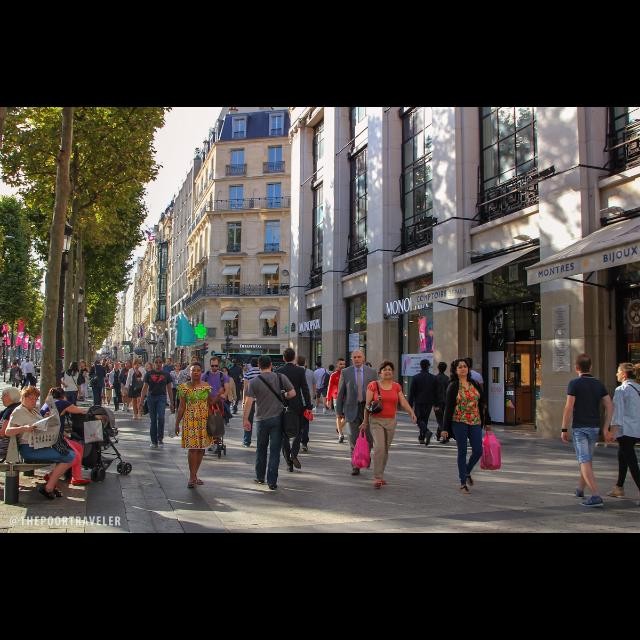head: (1, 387, 21, 408), (22, 386, 40, 409), (616, 363, 636, 382), (574, 353, 592, 373), (454, 360, 470, 378), (258, 355, 274, 373), (52, 388, 68, 404), (352, 350, 366, 368), (380, 364, 394, 381), (190, 363, 202, 381), (282, 350, 296, 364), (210, 357, 220, 373), (462, 358, 473, 370), (154, 356, 164, 369), (421, 360, 431, 372), (337, 359, 347, 371), (297, 356, 307, 368), (437, 362, 447, 373), (251, 358, 261, 369), (222, 368, 230, 378), (70, 362, 78, 372), (100, 417, 108, 427), (144, 362, 154, 370), (174, 363, 182, 371), (165, 358, 172, 366), (135, 359, 141, 368), (192, 357, 198, 365), (232, 359, 238, 366), (329, 366, 335, 372), (316, 362, 322, 368), (242, 365, 248, 371), (126, 362, 132, 368), (114, 363, 120, 369), (95, 360, 101, 366), (80, 362, 86, 368), (102, 359, 106, 366), (108, 374, 112, 380), (26, 358, 30, 364), (13, 362, 17, 368), (228, 359, 232, 363), (26, 358, 30, 362), (184, 362, 188, 366)
person: (350, 360, 418, 490), (560, 353, 616, 509), (4, 386, 78, 502), (440, 358, 502, 496), (242, 354, 298, 492), (37, 385, 104, 491), (174, 361, 226, 492), (334, 350, 380, 478), (273, 348, 315, 474), (137, 356, 179, 452), (199, 357, 231, 455), (0, 386, 30, 489), (240, 358, 274, 448), (288, 356, 318, 452), (408, 359, 440, 447), (456, 356, 486, 448), (430, 360, 456, 446), (326, 358, 352, 444), (56, 361, 84, 427), (123, 359, 149, 421), (215, 367, 238, 428), (168, 362, 192, 418), (86, 360, 108, 416), (80, 414, 108, 454), (311, 361, 331, 415), (184, 355, 203, 409), (228, 358, 245, 416), (118, 361, 136, 414), (108, 362, 126, 413), (140, 363, 158, 407), (162, 358, 176, 408), (20, 358, 40, 392), (324, 364, 338, 412), (96, 358, 110, 406), (19, 356, 36, 392), (5, 362, 23, 396), (77, 361, 91, 403), (240, 365, 250, 403), (226, 358, 234, 398), (105, 374, 114, 406), (180, 363, 190, 389)
